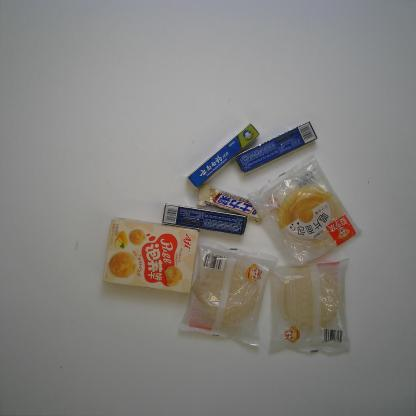Chocolate: (194, 181, 272, 226)
Dessert: (244, 155, 365, 270), (172, 236, 279, 350), (260, 254, 356, 358), (101, 215, 202, 295)
Personal Hygiene: (184, 122, 260, 189), (235, 118, 318, 175), (159, 203, 251, 237)
